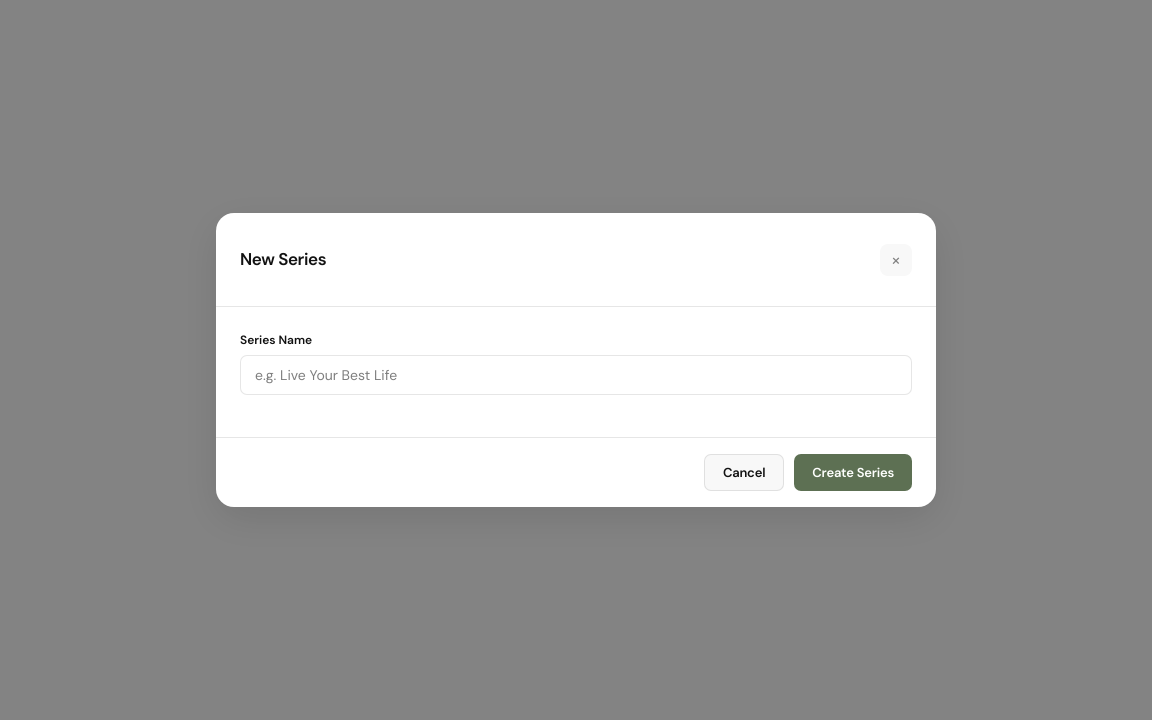
Scenario: tells non-admins only admins can create series and stays open
Type "X" into the field with placeholder "e.g. Live Your Best Life" at point(576, 375), box left=240, top=355, right=912, bottom=395
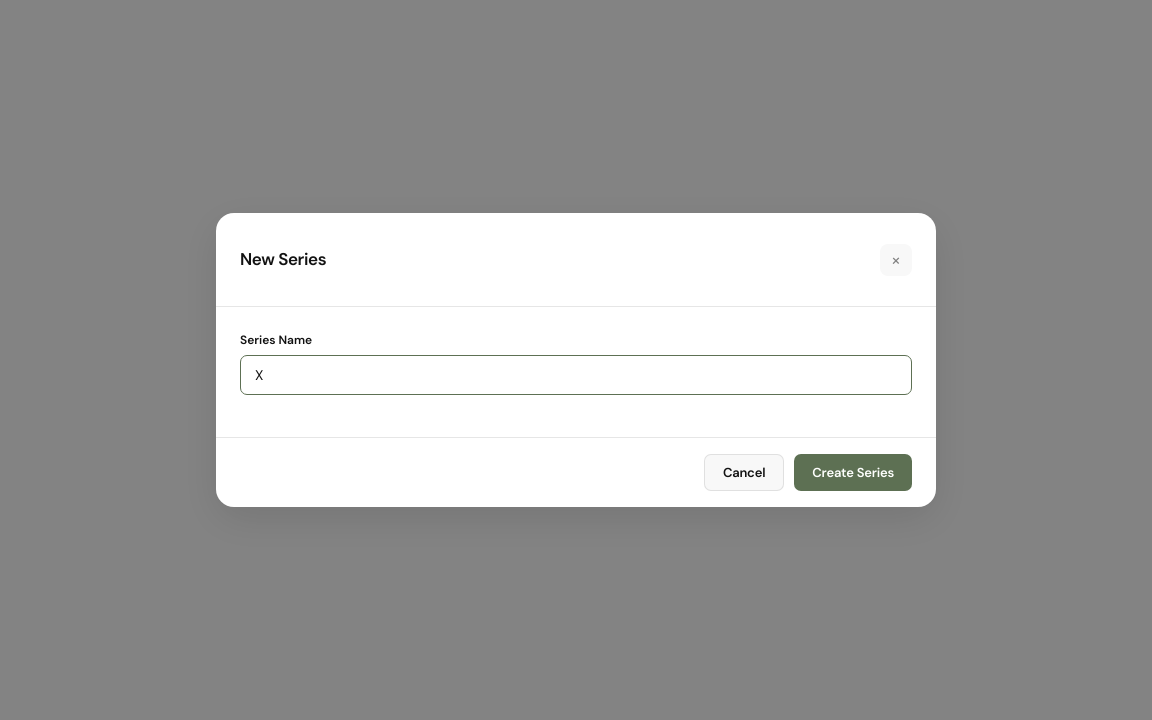
Click the button "Create Series" at point(853, 473), box left=794, top=454, right=912, bottom=491
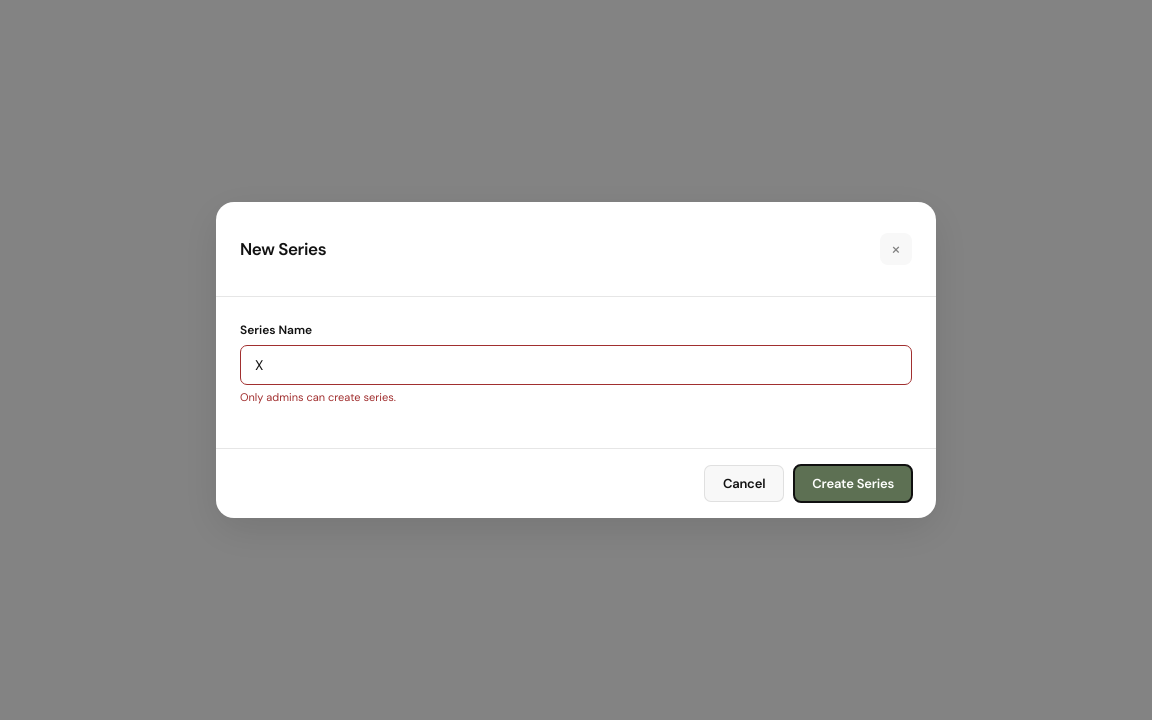
Result: the text "Only admins can create series." is shown at left=240, top=390, right=396, bottom=404
